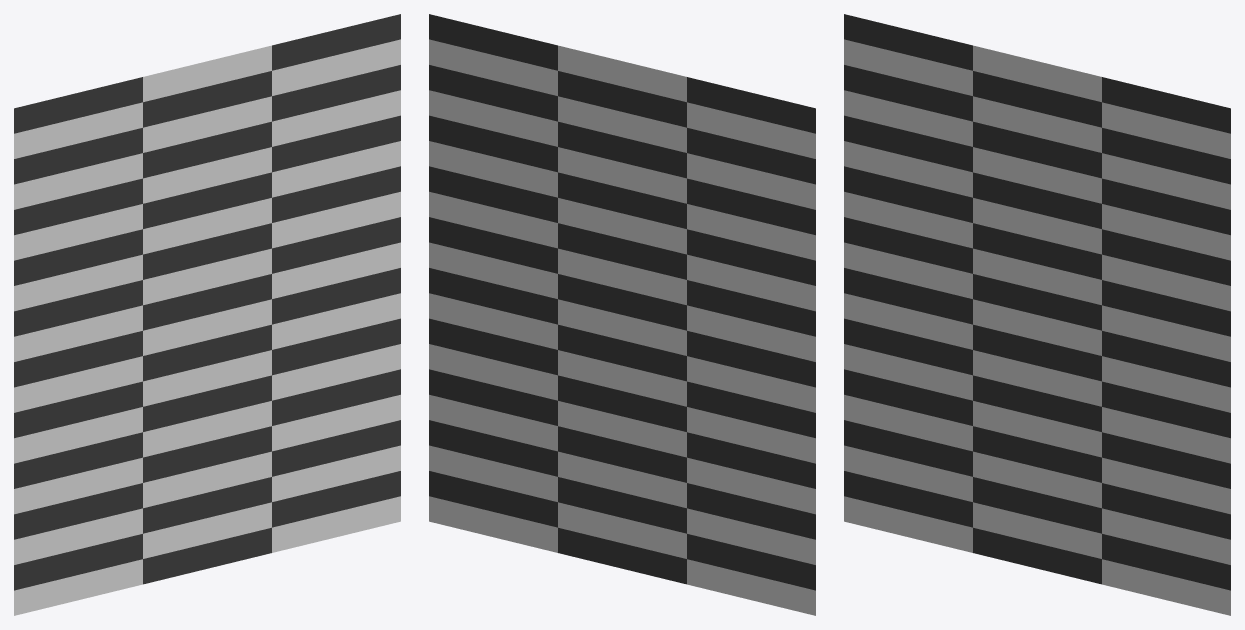
The model's file is rug-c.glb.
3 renders of one model, left to right at view 1: azimuth 30°, elevation 25°; view 2: azimuth 150°, elevation 25°; view 3: azimuth 330°, elevation 25°, orthographic.
Parts seen in each view (by area): view 1: carpet_006; view 2: carpet_006; view 3: carpet_006.
Part boxes in pixels (x1,y1,x2,y2): carpet_006: [14, 14, 400, 615]; carpet_006: [429, 14, 815, 615]; carpet_006: [844, 14, 1230, 615].
Bounding box in the file's own units: 2.31 × 2.89 × 0.
1 material, 1 textured.
